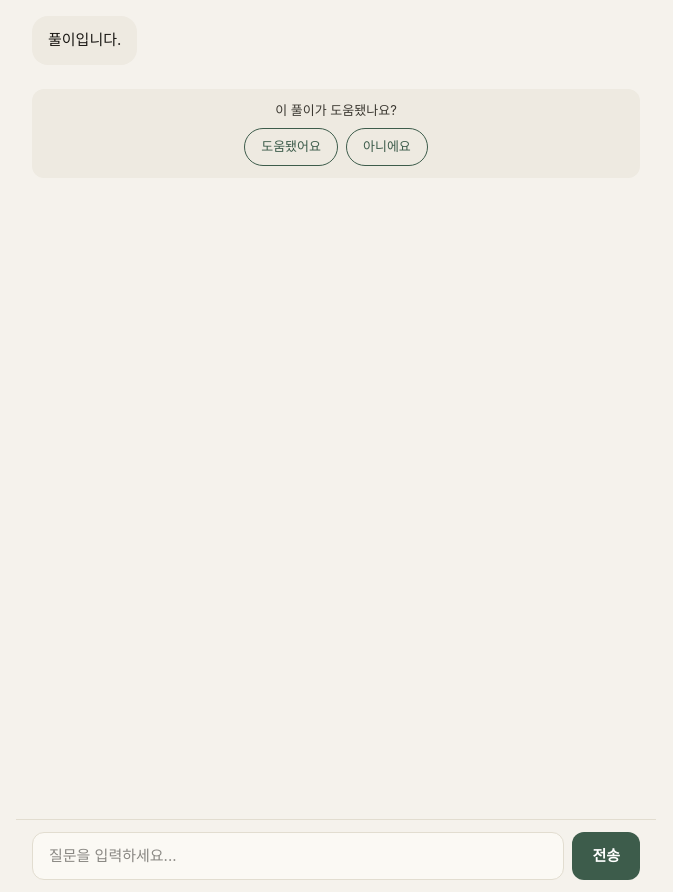
Scenario: ChatPage › 피드백 버튼 클릭 시 감사 메시지 표시 + PostHog 이벤트 발행
Click the button with test id "feedback-helpful": (291, 147) [244, 128, 338, 166]
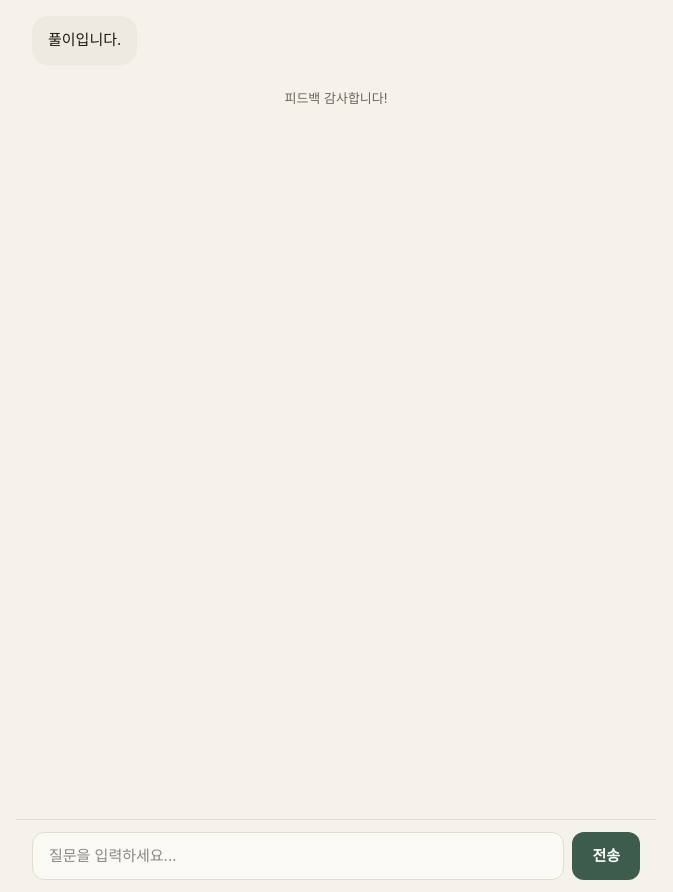
Check: the text "피드백 감사합니다!" is shown, box [284, 90, 388, 106]
Check: the element with test id "feedback-bar" is gone
